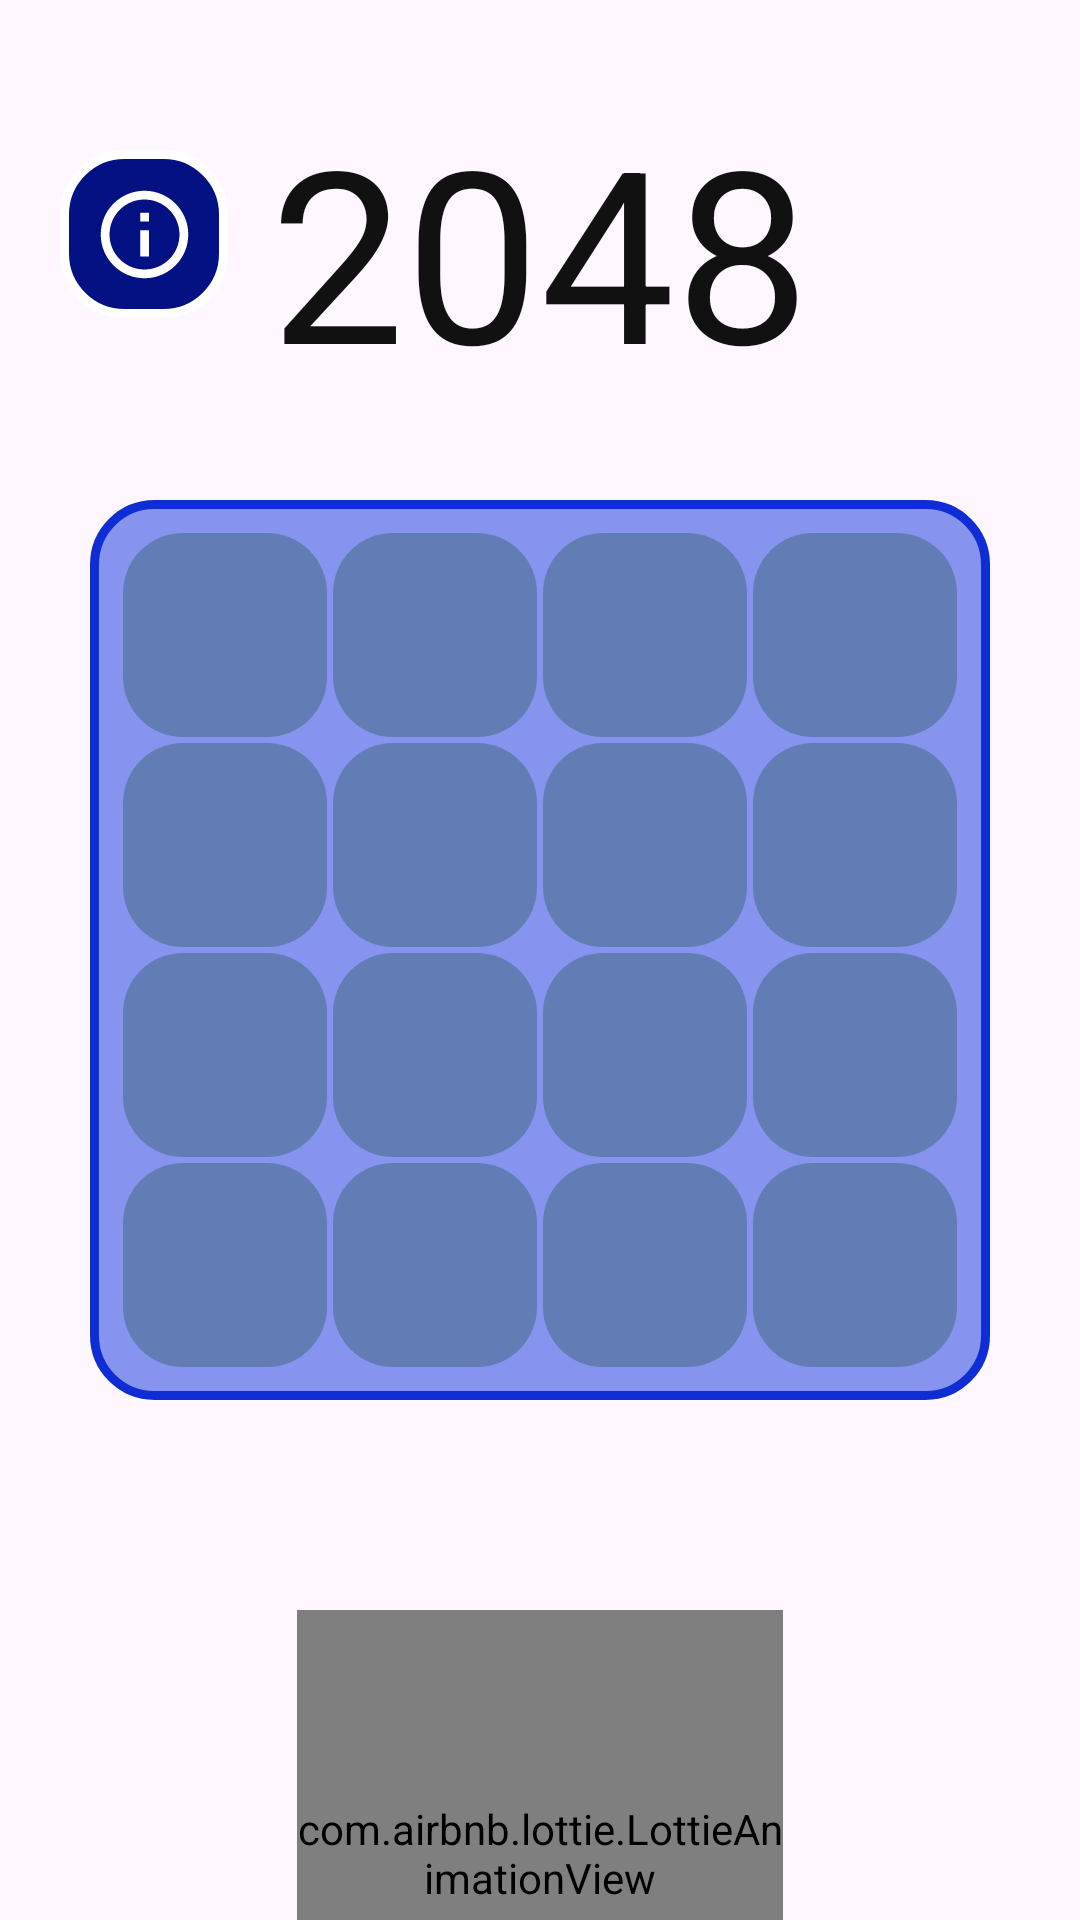

Where icons sit on this 1080 × 1920 app screen, as (x1, y1, x2, y2):
info: (69, 159, 219, 309)
